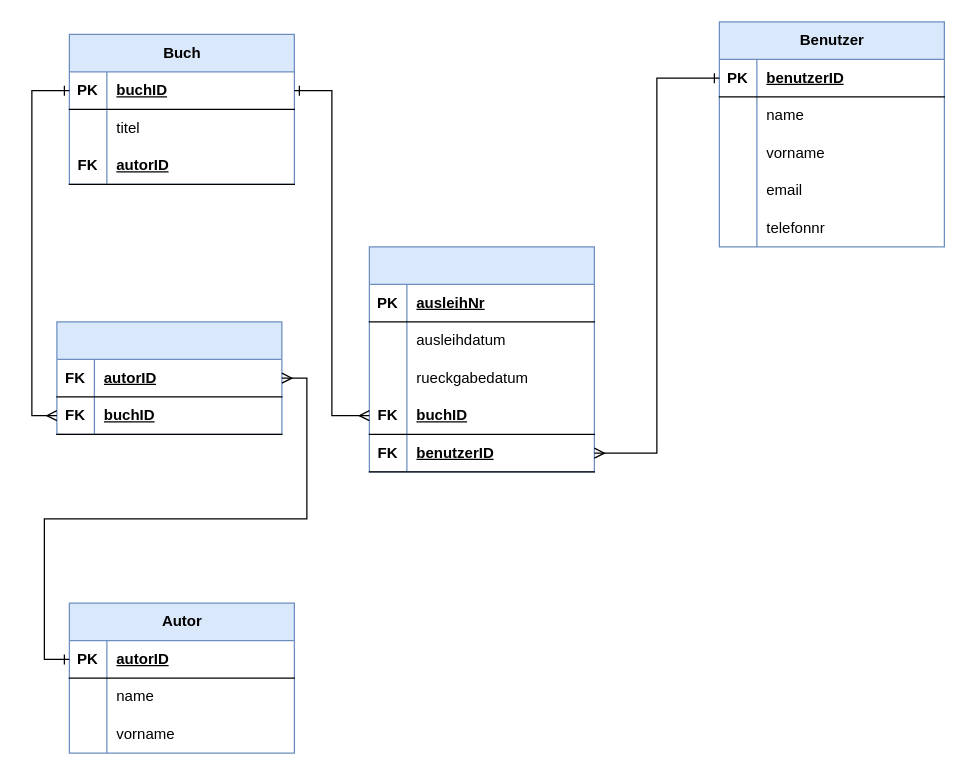
The diagram is 966 pixels wide and 775 high, and some of its shapes have lost their labels. The box of each missing label's shape, as (x1, y1, x2, y2) in pixels:
Ausleihen: (368, 246, 594, 472)
Autor-Buch: (56, 321, 282, 434)
